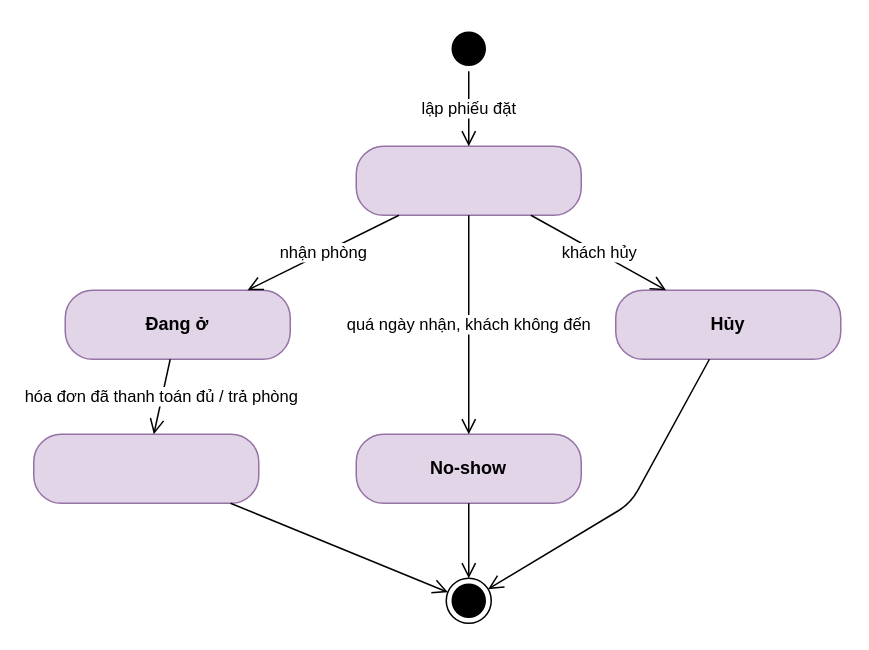
Image size: 869x650. Some labels were removed from this diagram. The shapes that lost their labels are listed below. From the top down, each one's centre as x and y in pixels, then its label:
(468,180): Đã đặt
(145,468): Đã trả
